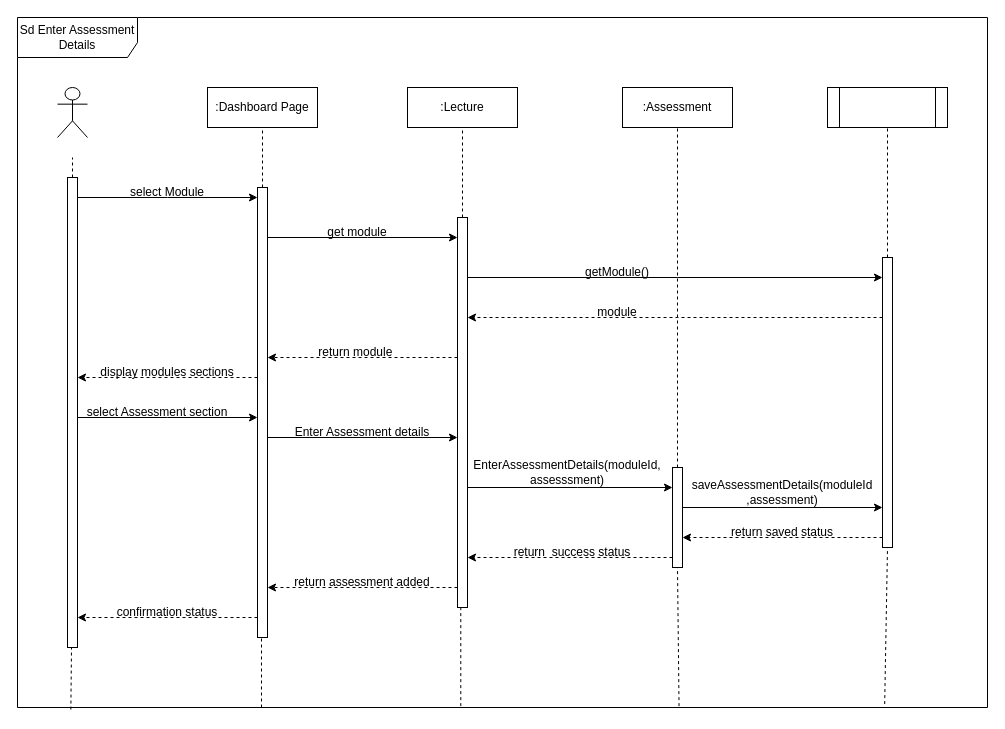
Some shapes in this 1005 by 729 pixel diagram are drawn without their labels. The centre of each missing label's shape, as x and y in pixels:
":Database" goes at (x=887, y=107).
"Lecturer" goes at (x=72, y=112).
